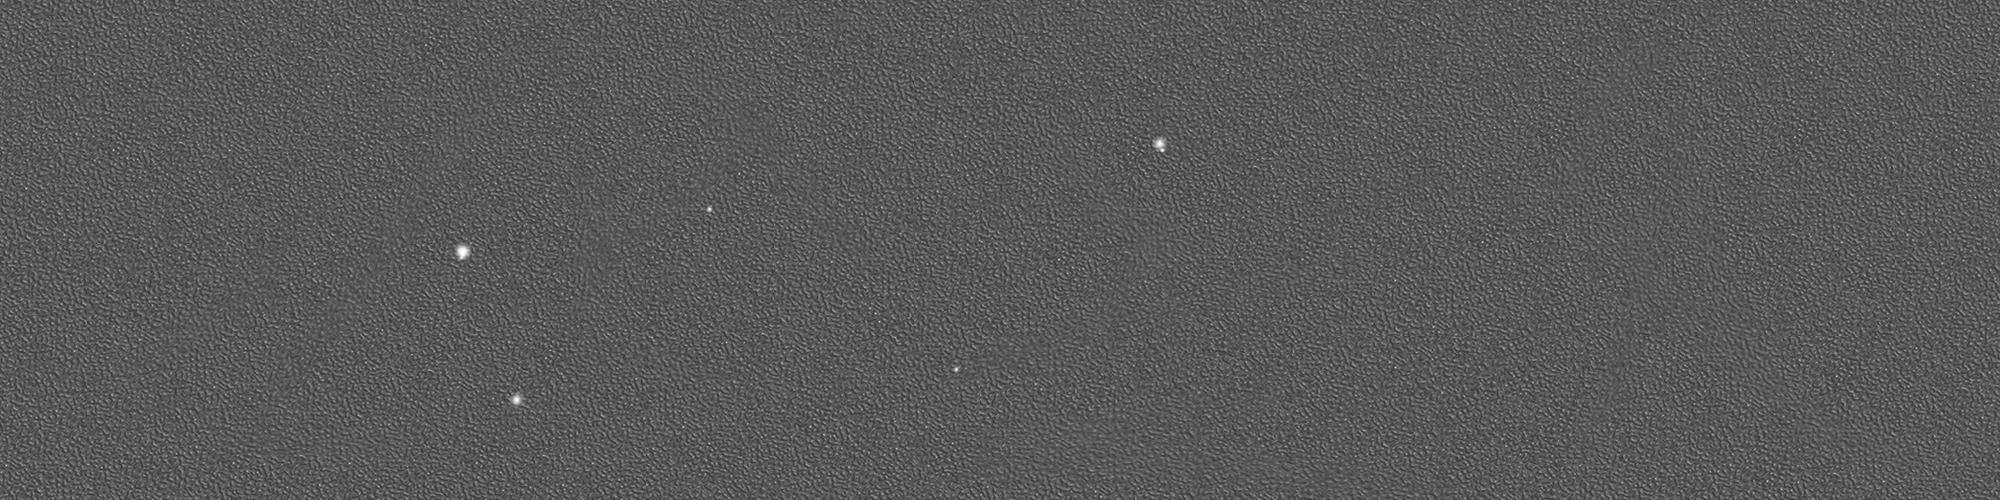Particles: (1151, 133, 1173, 159), (454, 239, 474, 261), (506, 390, 524, 407), (949, 364, 967, 379), (704, 202, 714, 213)
